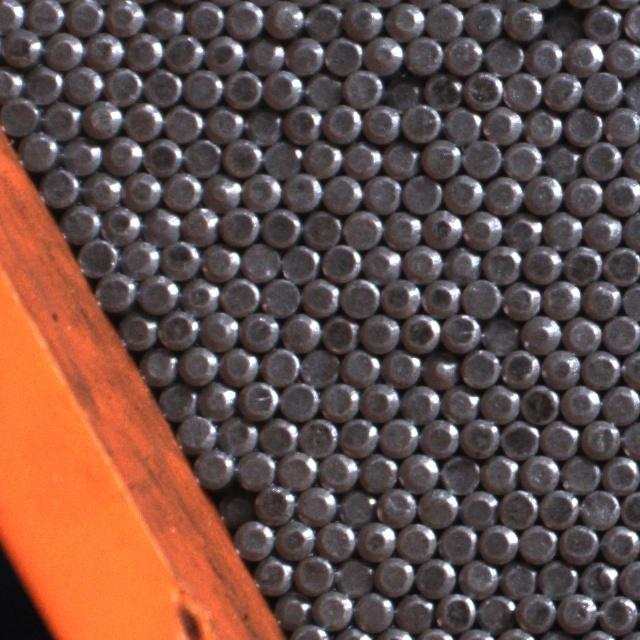tool: (38, 165, 79, 206), (253, 483, 294, 524), (558, 520, 598, 562), (136, 270, 176, 312), (274, 518, 314, 559), (316, 517, 356, 558), (217, 413, 257, 454), (60, 134, 101, 174), (256, 414, 296, 455), (598, 591, 638, 632), (60, 202, 100, 243), (482, 242, 522, 283), (477, 521, 517, 561), (198, 308, 238, 348), (422, 207, 462, 247), (502, 138, 542, 178), (261, 206, 301, 246), (582, 68, 622, 108), (296, 483, 336, 523), (218, 344, 258, 384), (582, 210, 622, 250), (321, 239, 361, 279), (364, 34, 404, 74), (200, 240, 240, 280), (340, 276, 380, 316), (560, 383, 600, 423), (157, 308, 197, 348), (442, 171, 482, 211), (161, 168, 201, 208), (318, 448, 358, 488), (374, 554, 414, 594), (96, 270, 136, 310), (462, 136, 502, 176), (419, 414, 459, 454), (498, 558, 538, 598), (312, 587, 352, 627), (260, 344, 300, 384), (240, 240, 280, 280), (462, 209, 502, 249), (382, 208, 422, 248), (194, 446, 234, 486), (300, 274, 340, 314), (414, 556, 454, 596), (81, 168, 121, 208), (160, 238, 200, 278), (559, 454, 599, 494), (556, 590, 596, 630), (294, 552, 334, 592), (420, 274, 460, 314), (22, 63, 62, 103), (436, 590, 476, 630), (358, 450, 398, 490), (278, 380, 318, 420), (319, 378, 359, 418), (235, 448, 275, 488), (260, 274, 300, 314), (442, 242, 482, 282), (458, 487, 498, 527), (462, 67, 502, 107), (298, 414, 338, 454), (500, 418, 540, 458), (280, 241, 320, 281), (520, 380, 560, 420), (380, 277, 420, 317), (117, 309, 156, 350), (78, 235, 119, 274), (396, 520, 436, 559), (518, 522, 557, 562), (499, 486, 538, 526), (343, 207, 383, 246), (442, 310, 481, 350), (44, 29, 83, 69), (401, 310, 440, 350), (164, 31, 204, 70), (563, 106, 602, 146), (522, 242, 561, 282), (580, 347, 620, 386), (220, 205, 259, 245), (580, 418, 619, 458), (239, 310, 279, 349), (437, 521, 476, 561), (223, 136, 262, 176), (402, 171, 441, 211), (540, 487, 579, 527), (302, 208, 342, 247), (479, 383, 519, 422), (320, 312, 359, 352), (62, 63, 102, 102), (404, 34, 443, 74), (542, 68, 581, 108), (580, 487, 619, 527), (120, 236, 159, 276), (339, 415, 378, 455), (540, 346, 579, 386), (19, 130, 58, 170), (398, 451, 438, 490), (238, 378, 277, 418), (322, 172, 361, 212), (362, 242, 401, 282), (262, 67, 301, 107), (517, 590, 556, 630), (563, 243, 602, 283), (281, 311, 321, 350), (322, 102, 361, 142), (123, 99, 162, 139), (182, 66, 221, 106), (484, 36, 524, 75), (499, 347, 539, 386), (178, 344, 217, 384), (401, 102, 440, 142), (538, 559, 577, 599), (476, 590, 516, 629), (460, 416, 499, 456), (353, 589, 392, 629), (582, 138, 621, 178), (103, 134, 142, 174), (522, 172, 561, 212), (219, 275, 259, 314), (459, 347, 499, 386), (205, 33, 245, 72), (245, 34, 284, 74), (394, 591, 434, 630), (183, 136, 222, 176), (439, 452, 478, 492), (138, 344, 177, 384), (2, 26, 41, 66), (82, 98, 122, 137), (483, 174, 523, 213), (0, 94, 39, 134), (144, 135, 183, 175), (458, 556, 497, 596), (252, 554, 291, 594), (577, 556, 617, 595), (234, 518, 273, 558), (382, 69, 422, 108), (379, 414, 417, 455), (356, 519, 394, 560), (601, 383, 640, 422), (143, 65, 182, 104), (323, 34, 362, 73), (444, 34, 483, 73), (400, 382, 439, 421), (440, 383, 479, 422), (277, 448, 316, 487), (501, 280, 540, 319), (381, 346, 420, 385), (543, 209, 582, 248), (422, 137, 461, 176), (342, 67, 381, 106), (360, 312, 399, 351), (424, 0, 463, 39), (564, 36, 603, 75), (242, 170, 281, 209), (521, 313, 560, 352), (340, 345, 379, 384), (442, 105, 481, 144), (42, 98, 81, 137), (282, 170, 321, 209), (600, 453, 639, 492), (203, 103, 242, 142), (520, 451, 559, 490), (423, 69, 462, 108), (483, 105, 522, 144), (196, 379, 235, 418), (581, 3, 620, 42), (479, 452, 518, 491), (360, 380, 399, 419), (282, 103, 321, 142), (142, 203, 181, 242), (481, 315, 520, 354), (177, 411, 216, 450), (101, 202, 140, 241), (524, 106, 562, 146), (224, 67, 262, 107), (123, 168, 161, 208), (418, 486, 458, 524), (600, 522, 638, 562), (540, 418, 578, 458), (542, 278, 580, 318), (503, 1, 541, 41), (300, 346, 338, 386), (502, 210, 542, 248), (562, 314, 600, 354), (104, 64, 142, 104), (564, 173, 602, 213), (462, 276, 500, 316), (180, 276, 220, 314), (158, 380, 196, 420), (402, 242, 440, 281), (376, 486, 415, 524), (543, 140, 581, 179), (164, 103, 202, 142), (503, 69, 541, 108), (581, 279, 619, 318), (285, 35, 323, 74), (342, 139, 381, 177), (525, 36, 563, 75), (84, 30, 123, 68), (337, 486, 375, 525), (362, 172, 400, 211), (464, 0, 502, 39), (362, 103, 400, 142), (381, 138, 419, 177), (304, 1, 342, 40), (243, 105, 281, 144), (384, 0, 422, 39), (335, 556, 373, 595), (303, 137, 341, 176), (262, 138, 300, 177), (603, 244, 640, 284), (264, 0, 304, 37), (124, 31, 162, 69), (203, 170, 241, 208), (303, 69, 341, 107), (181, 203, 219, 241), (542, 7, 580, 45), (214, 486, 252, 524), (603, 105, 640, 144), (603, 313, 640, 352), (603, 174, 640, 213), (145, 0, 184, 37), (343, 0, 382, 37), (604, 36, 640, 76), (225, 0, 263, 37), (273, 589, 311, 626), (185, 0, 223, 37), (421, 351, 458, 388), (105, 0, 144, 35), (66, 0, 104, 33), (26, 0, 64, 32), (619, 557, 640, 597), (620, 418, 640, 458), (0, 63, 21, 101), (0, 0, 24, 32), (290, 621, 330, 640), (621, 348, 640, 387), (621, 280, 640, 319), (621, 488, 640, 526), (623, 139, 640, 178), (623, 74, 640, 112)
